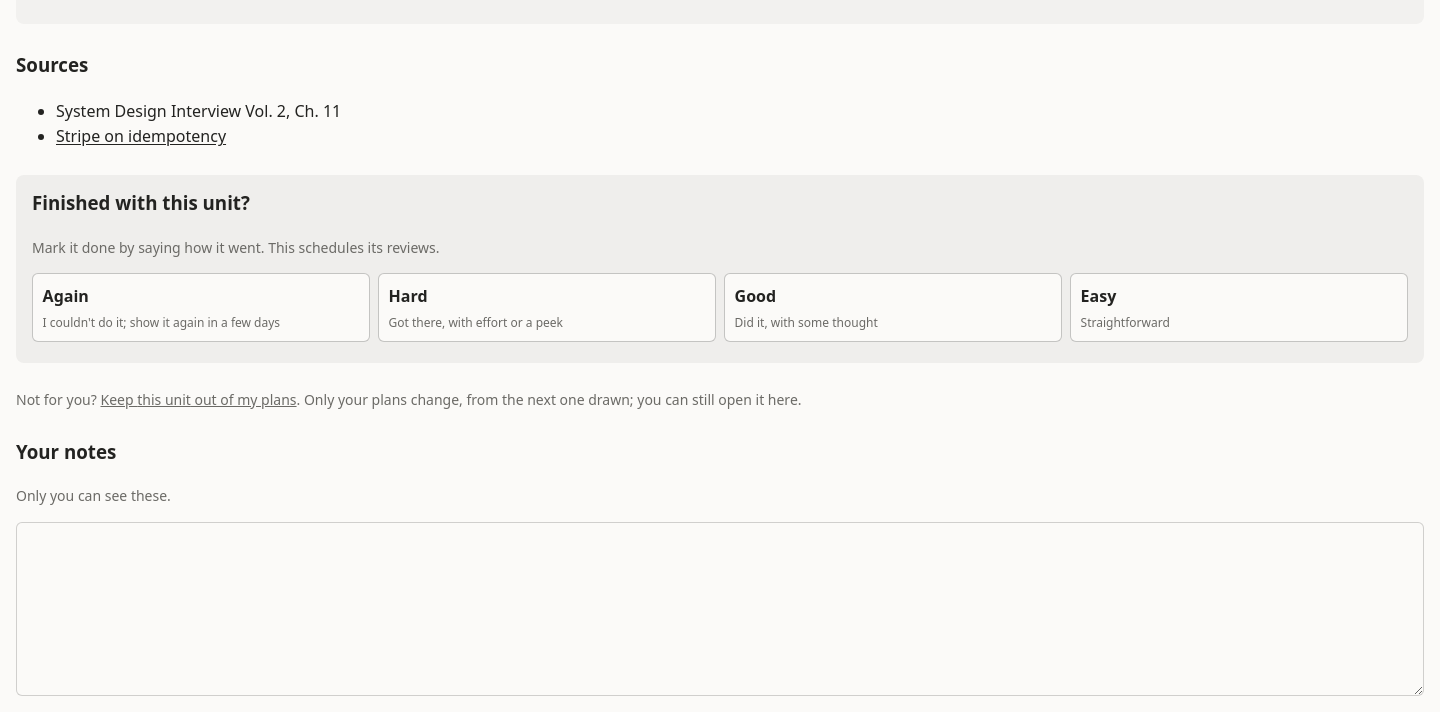
UnitPage › marks a unit done only when told how it went, and can undo it
(page scrolled)
expect the element named "Your progress" shows "Finished with this unit?": met, box [32, 190, 250, 215]
Click the button "Good Did it, with some thought" at [755, 296], box [724, 273, 1062, 342]
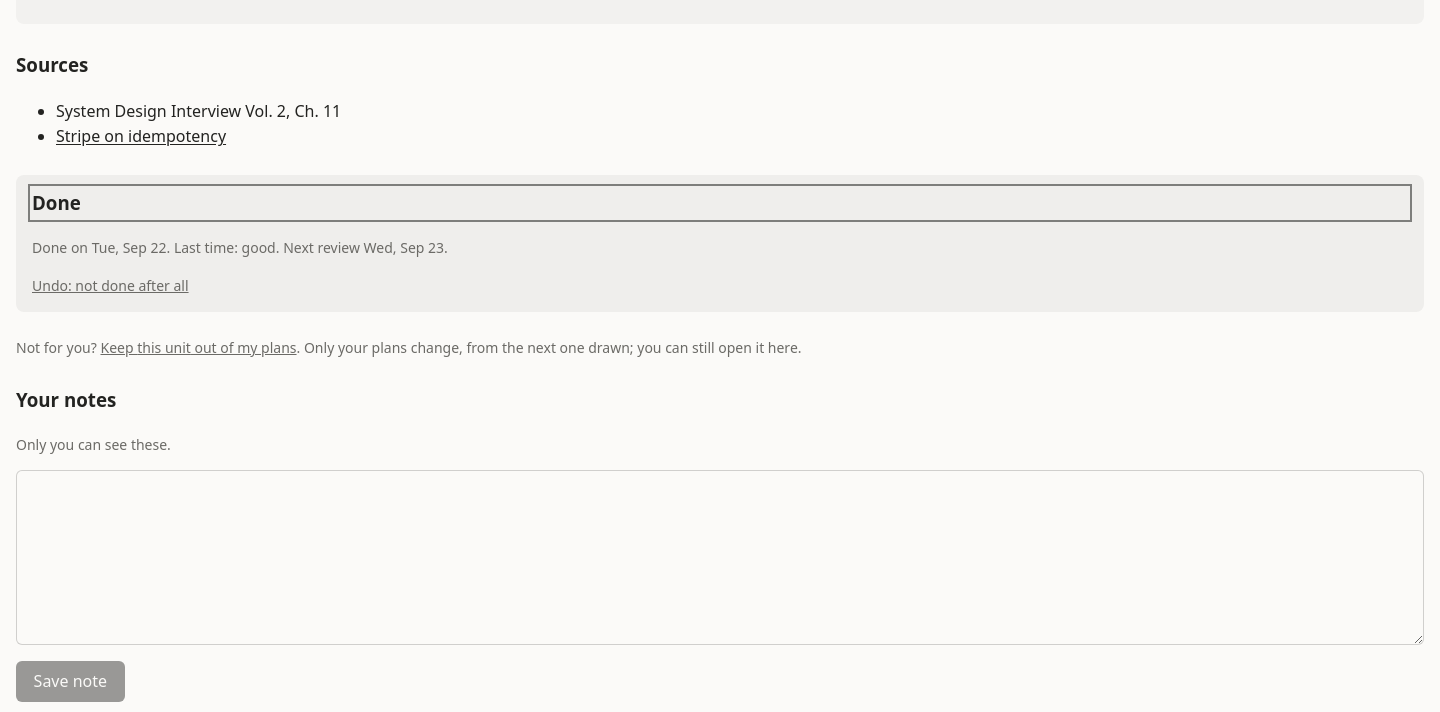
expect the text "Next review" shows "Last time: good": met, box [32, 238, 448, 257]
Click the button "Undo: not done after all" at [110, 286], box [32, 275, 189, 298]
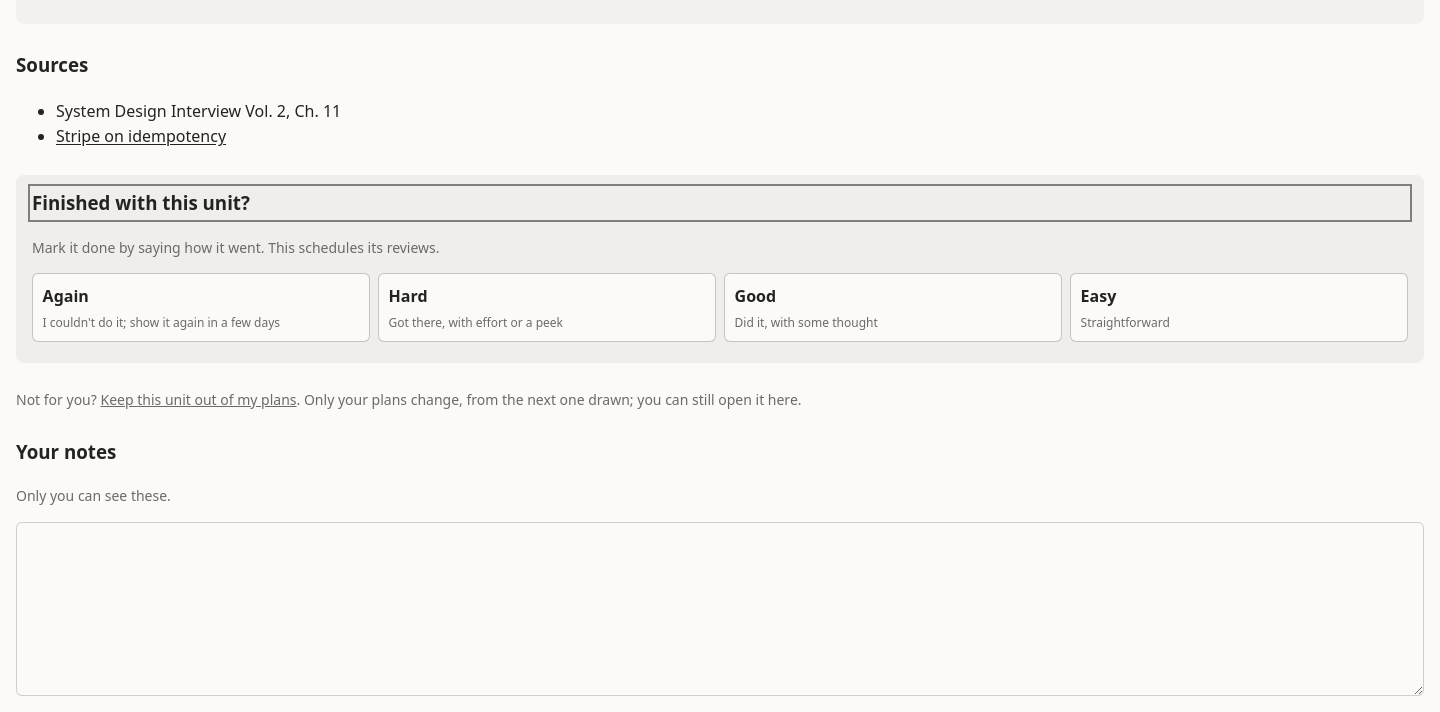
expect the heading "Finished with this unit?" is shown: met, box [32, 190, 250, 215]
